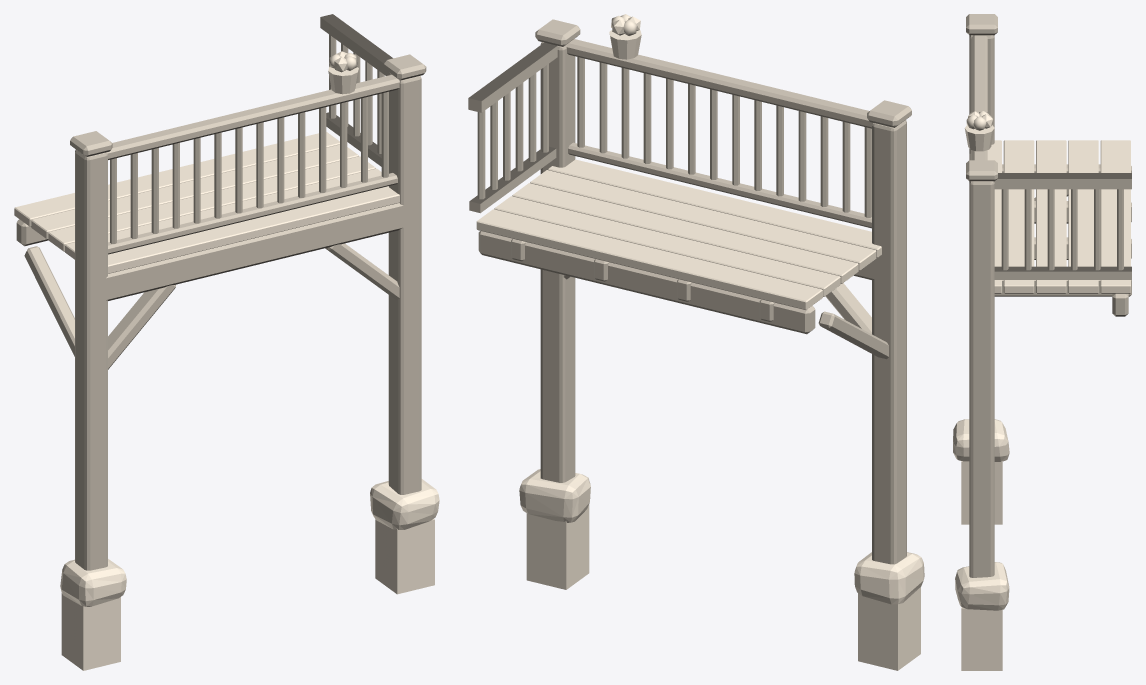
The model's file is SM_VK_Gallery_End.fbx.
The picture shows the model from 3 angles, left to right: view 1: azimuth 30°, elevation 25°; view 2: azimuth 150°, elevation 25°; view 3: azimuth 270°, elevation 25°; orthographic projection. The views are drawn at different scales.
Parts seen in each view (by area): view 1: SM_VK_Gallery_End.001; view 2: SM_VK_Gallery_End.001; view 3: SM_VK_Gallery_End.001.
Boxes of the visible parts, bbox=[...] form: SM_VK_Gallery_End.001: bbox=[14, 14, 439, 670]; SM_VK_Gallery_End.001: bbox=[468, 14, 924, 670]; SM_VK_Gallery_End.001: bbox=[953, 14, 1131, 670].
Size of the model in its own units: 3.47 by 4.97 by 1.55.
